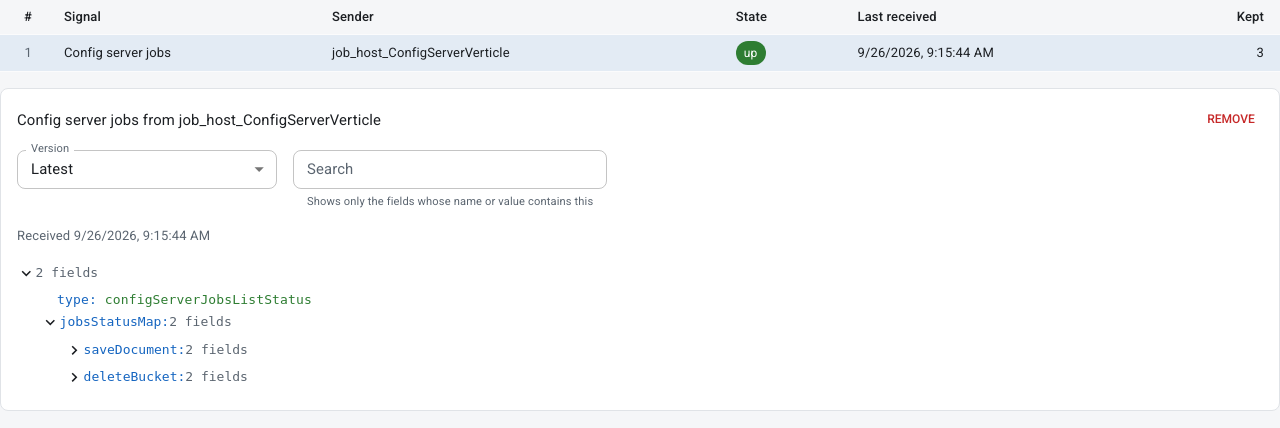
Scenario: InfoPanel › lists each sender and shows its latest report as a tree to search
expect the text "job_host_ConfigServerVerticle" is shown: met, box [316, 35, 720, 72]
expect the text "up" is shown: met, box [744, 46, 758, 60]
Step 1. Type "savedoc" into the field labelled "Search" → (450,170), box [293, 150, 607, 189]
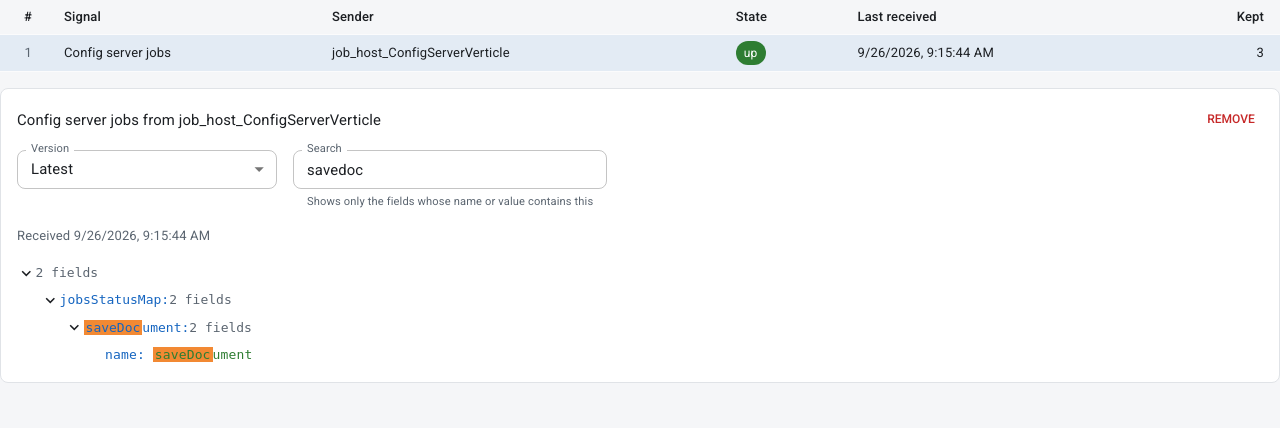
expect the button "deleteBucket" is gone: met
expect the text "saveDoc" is shown 2 times: met, box [84, 320, 142, 335]; [153, 347, 213, 362]
